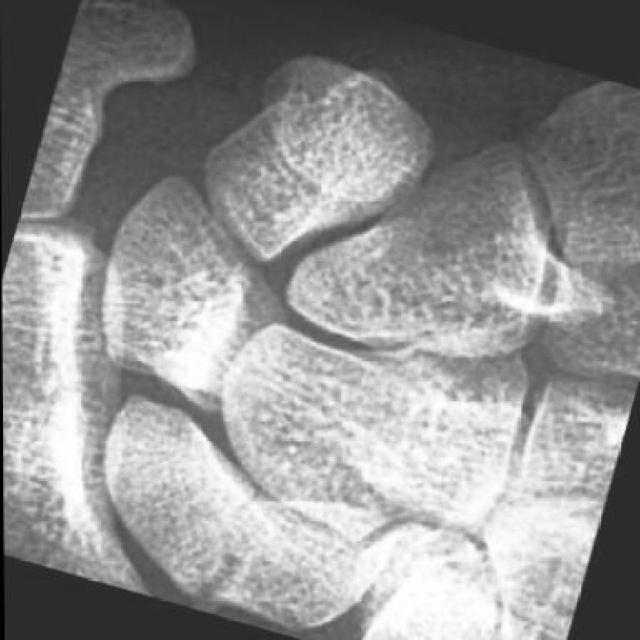Fracture: (162, 476, 300, 622)
